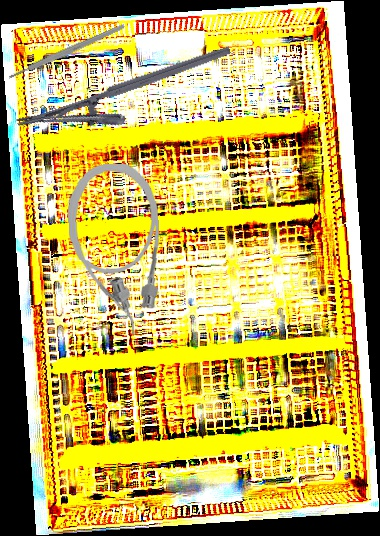Cannula: (65, 161, 165, 339)
Needle Holder: (15, 44, 242, 158)
Scalpel Handle: (7, 22, 126, 81)
